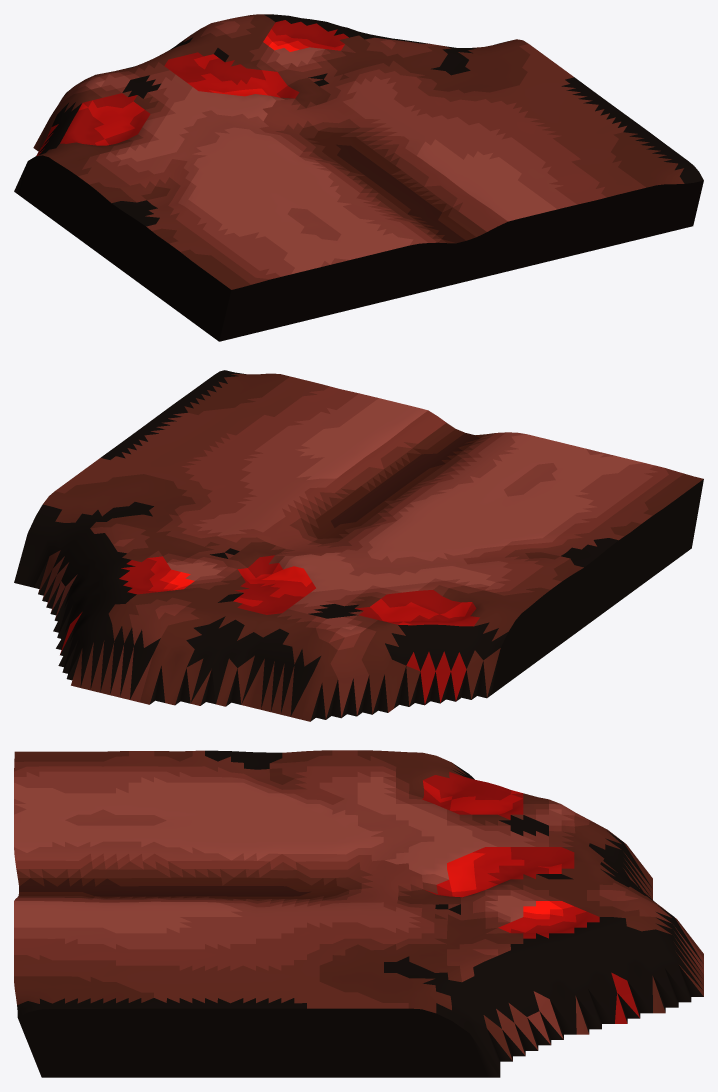
The model's file is nosedrip_nostrils.glb.
3 views of the same model, one above another, from view 1: azimuth 30°, elevation 25°; view 2: azimuth 150°, elevation 25°; view 3: azimuth 270°, elevation 25° (orthographic). The views are drawn at different scales.
Parts seen in each view (by area): view 1: nosedrip_nostrils; view 2: nosedrip_nostrils; view 3: nosedrip_nostrils.
Boxes of the visible parts, box(x1,y1,x2,y2) form: nosedrip_nostrils: box(14, 14, 703, 341); nosedrip_nostrils: box(14, 370, 703, 721); nosedrip_nostrils: box(14, 750, 703, 1077).
Bounding box in the file's own units: 24 × 3 × 27.09.
